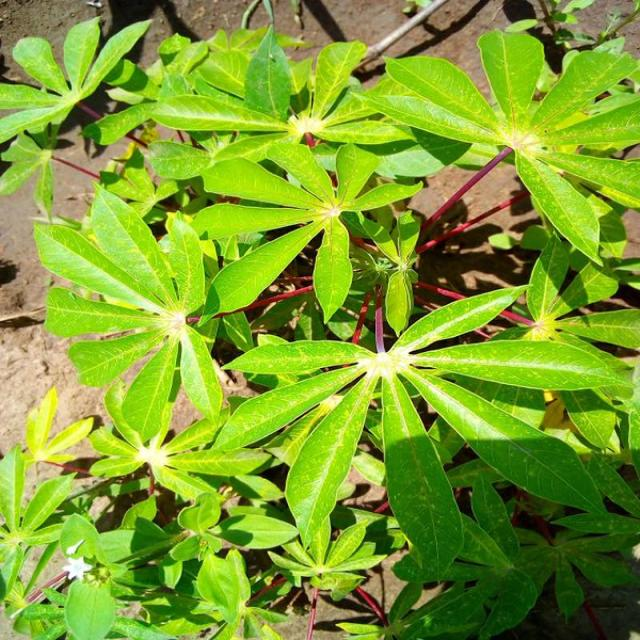cassava leaf: (2, 13, 638, 636), (211, 279, 633, 576), (354, 26, 640, 268), (32, 179, 233, 448)
